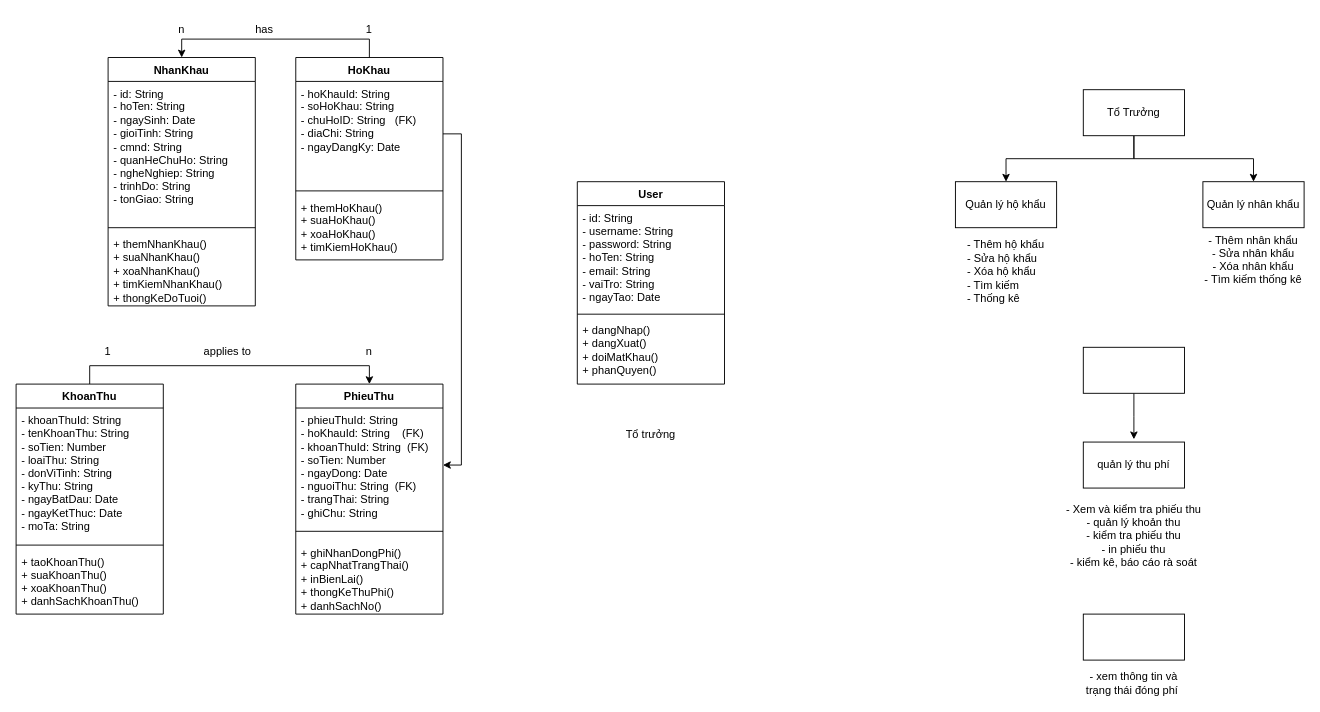
Some shapes in this 1320 by 712 pixel diagram are drawn without their labels. Each missing label, with the box of its shape:
Kế toán: (1082, 346, 1184, 393)
Người dân: (1082, 613, 1184, 660)
